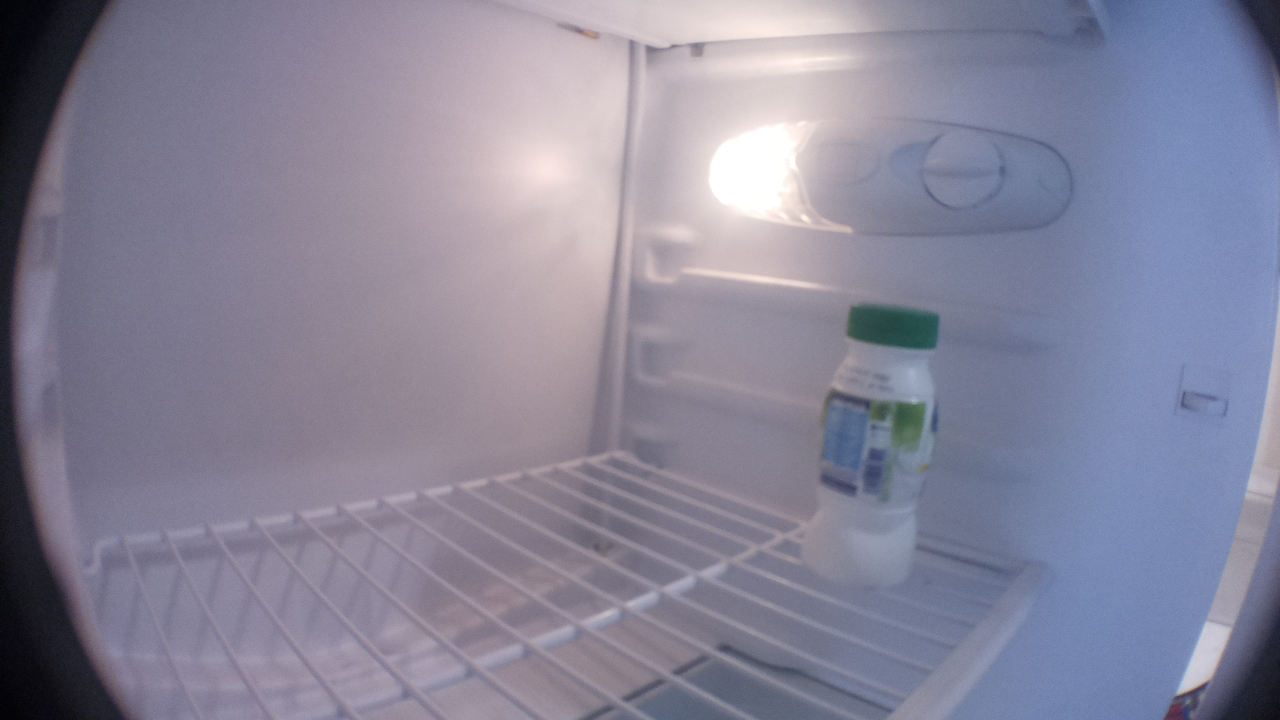laban: (799, 302, 945, 590)
